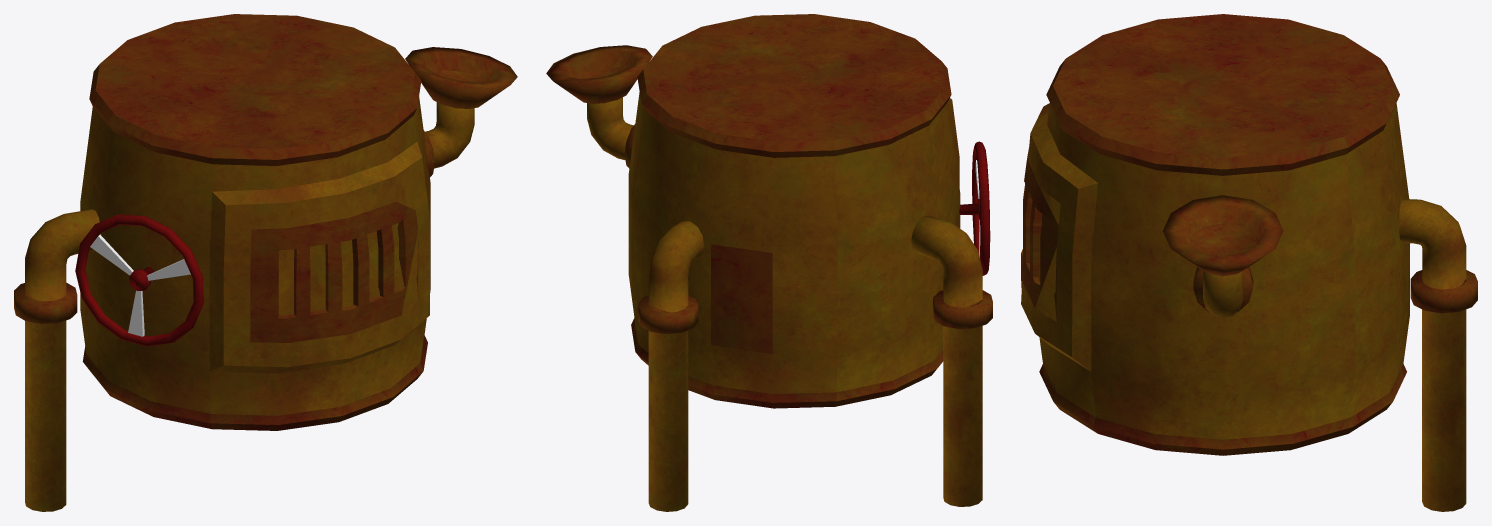
Rendered from Furnace.fbx.
3 renders of one model, left to right at view 1: azimuth 30°, elevation 25°; view 2: azimuth 150°, elevation 25°; view 3: azimuth 270°, elevation 25°, orthographic. The views are drawn at different scales.
Visible parts, largest first — view 1: Furnace.003, Cylinder.011, Pipe Adapter.005, Pipe Adapter.002, Valve type B.002, Pipe Elbow.001, Torus.001; view 2: Furnace.003, Pipe Adapter.005, Pipe Adapter.004, Pipe Adapter.002, Valve type B.002, Pipe Elbow.001; view 3: Furnace.003, Pipe Adapter.004, Pipe Adapter.002, Cylinder.011, Pipe Elbow.001, Pipe Adapter.001.
Boxes of the visible parts, <box> form: Furnace.003: <box>80,14,430,430</box>; Cylinder.011: <box>250,201,418,342</box>; Pipe Adapter.005: <box>14,209,101,511</box>; Pipe Adapter.002: <box>405,47,517,108</box>; Valve type B.002: <box>75,214,203,346</box>; Pipe Elbow.001: <box>425,102,474,168</box>; Torus.001: <box>90,234,190,336</box>; Furnace.003: <box>628,14,960,408</box>; Pipe Adapter.005: <box>911,215,992,506</box>; Pipe Adapter.004: <box>638,221,704,511</box>; Pipe Adapter.002: <box>546,45,652,103</box>; Valve type B.002: <box>959,141,990,275</box>; Pipe Elbow.001: <box>587,97,633,159</box>; Furnace.003: <box>1021,14,1409,455</box>; Pipe Adapter.004: <box>1399,199,1477,511</box>; Pipe Adapter.002: <box>1163,195,1283,276</box>; Cylinder.011: <box>1021,159,1058,319</box>; Pipe Elbow.001: <box>1203,270,1243,318</box>; Pipe Adapter.001: <box>1193,267,1253,312</box>.
Bounding box in the file's own units: 137 × 106 × 108.
